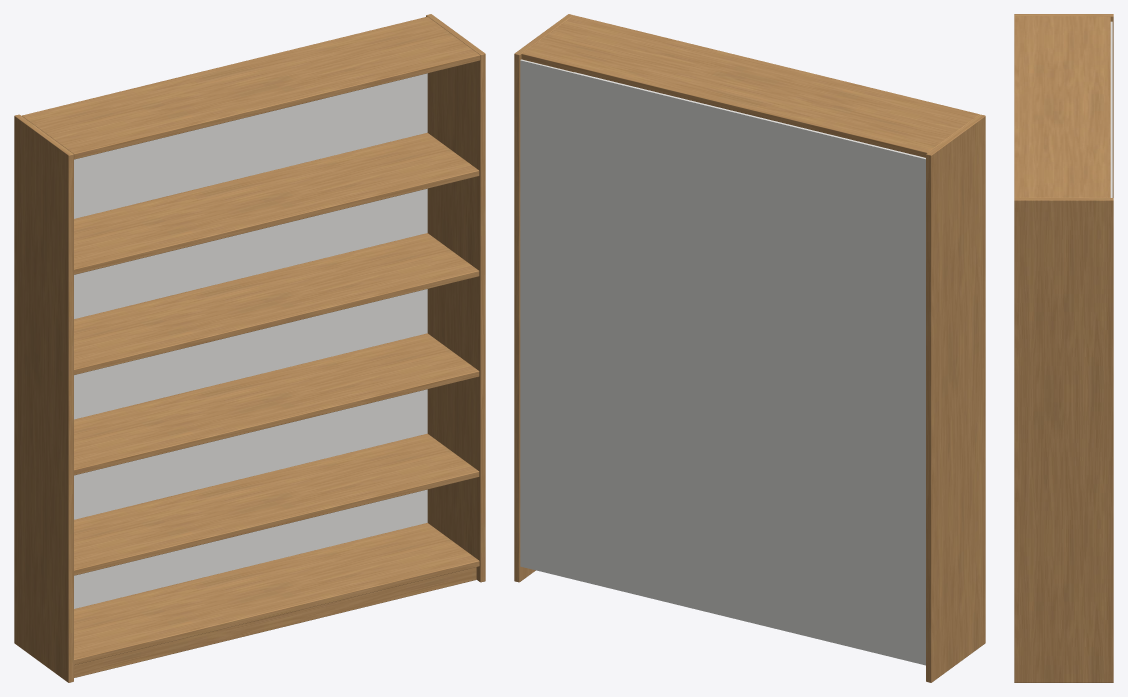
Rendered from bookcase.glb.
3 renders of one model, left to right at view 1: azimuth 30°, elevation 25°; view 2: azimuth 150°, elevation 25°; view 3: azimuth 270°, elevation 25°, orthographic. The views are drawn at different scales.
Parts seen in each view (by area): view 1: bookcase_frame, bookcase, bookcase_back; view 2: bookcase_back, bookcase_frame; view 3: bookcase_frame, bookcase_back.
Part boxes in pixels (x1,y1,x2,y2): bookcase_frame: [14, 14, 485, 682]; bookcase: [74, 132, 479, 575]; bookcase_back: [74, 73, 427, 608]; bookcase_back: [520, 59, 925, 665]; bookcase_frame: [514, 14, 985, 682]; bookcase_frame: [1014, 14, 1113, 682]; bookcase_back: [1110, 21, 1112, 197].
Bounding box in the file's own units: 1.65 × 2 × 0.374.
Materials: 3 (2 with a texture image).
